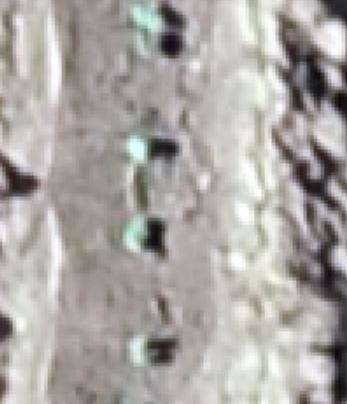cotton: (136, 4, 163, 29), (141, 21, 156, 54), (132, 337, 150, 364), (126, 224, 146, 248), (130, 136, 149, 160)
